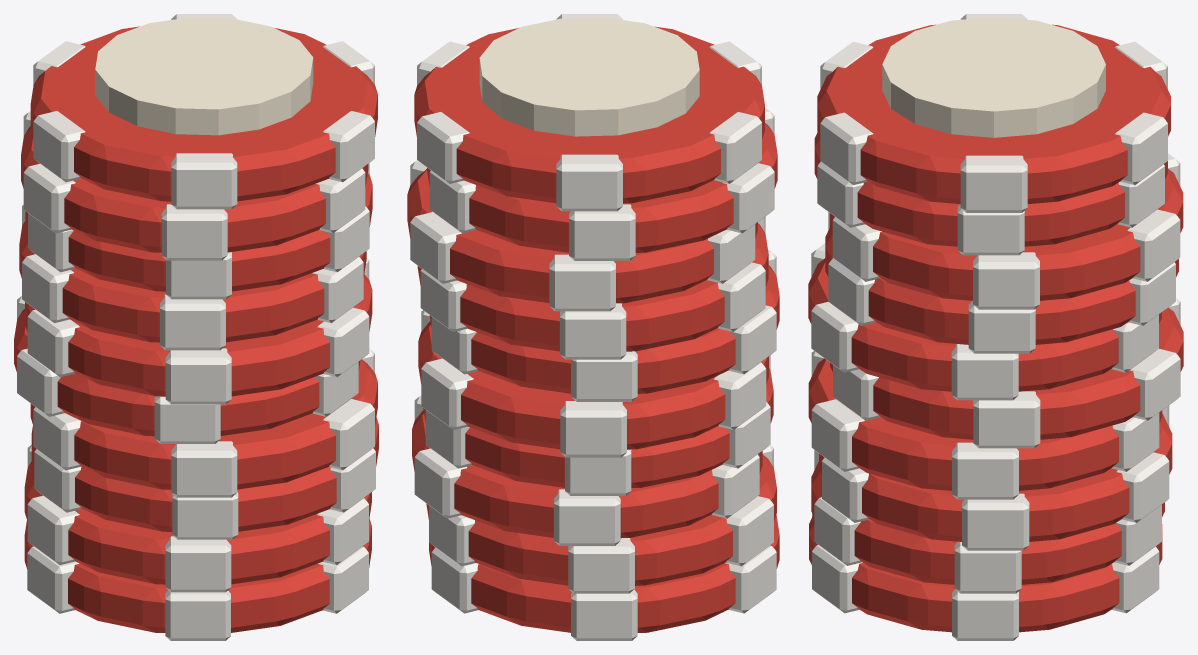
The model's file is chip_stack.glb.
3 views of the same model, side by side, from view 1: azimuth 30°, elevation 25°; view 2: azimuth 150°, elevation 25°; view 3: azimuth 270°, elevation 25° (orthographic).
Parts seen in each view (by area): view 1: chip_stack; view 2: chip_stack; view 3: chip_stack.
Boxes of the visible parts, x1=… form: chip_stack: x1=14, y1=14, x2=378, y2=640; chip_stack: x1=407, y1=14, x2=779, y2=640; chip_stack: x1=808, y1=14, x2=1183, y2=640.
Size of the model in its own units: 0.0687 by 0.0999 by 0.0671.
